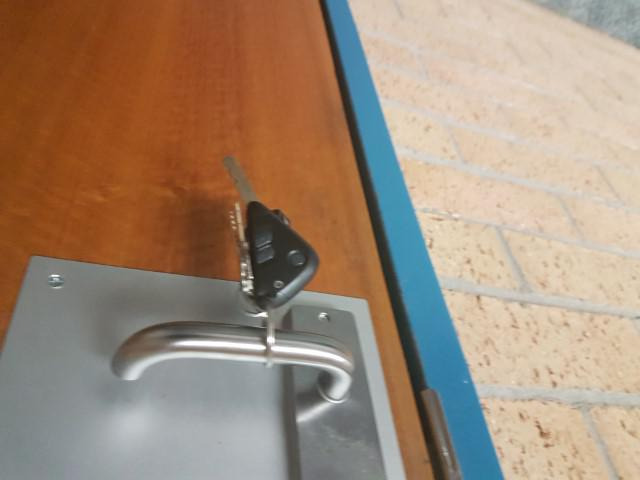key: (216, 150, 325, 315)
